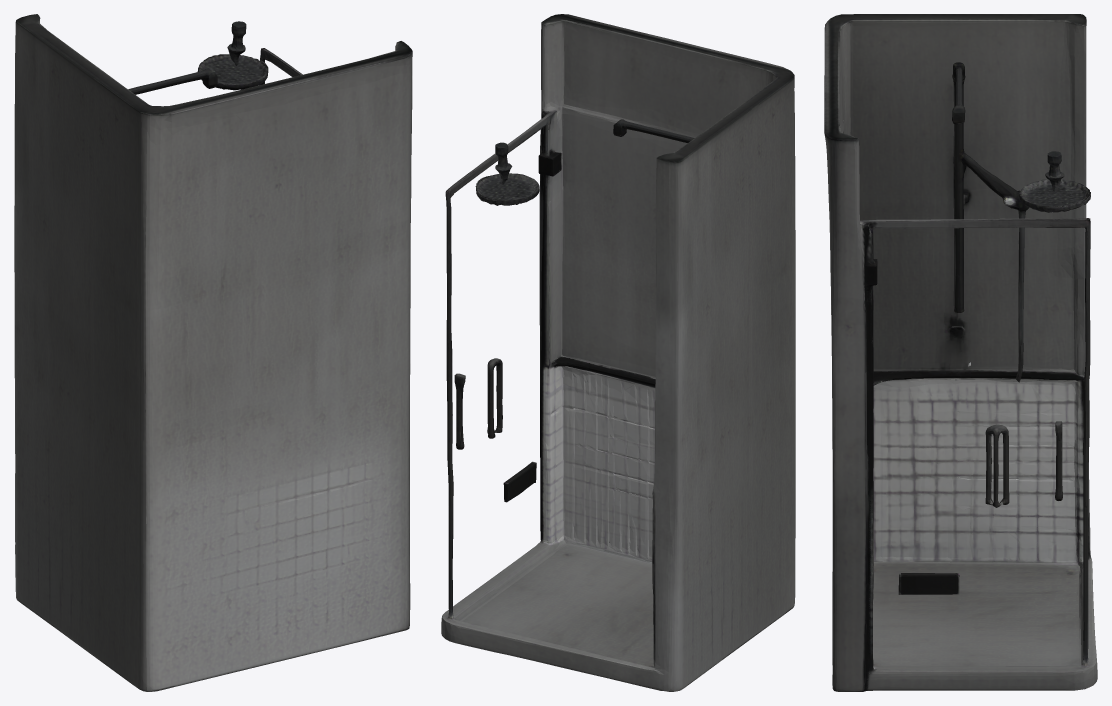
3 renders of one model, left to right at view 1: azimuth 30°, elevation 25°; view 2: azimuth 150°, elevation 25°; view 3: azimuth 270°, elevation 25°, orthographic. The views are drawn at different scales.
Visible parts, largest first — view 1: world; view 2: world; view 3: world.
Part boxes in pixels (x1,y1,x2,y2): world: [14, 14, 412, 691]; world: [441, 14, 795, 691]; world: [824, 14, 1097, 691].
Size of the model in its own units: 0.4892 by 1 by 0.4463.
1 material, 1 textured.
